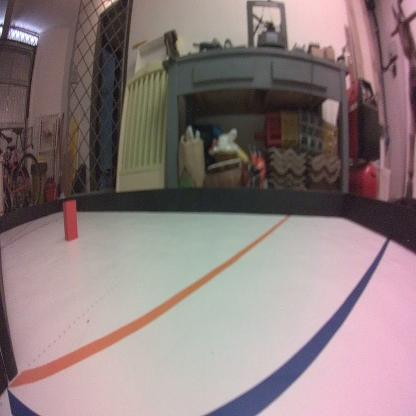red: (61, 198, 78, 242)
